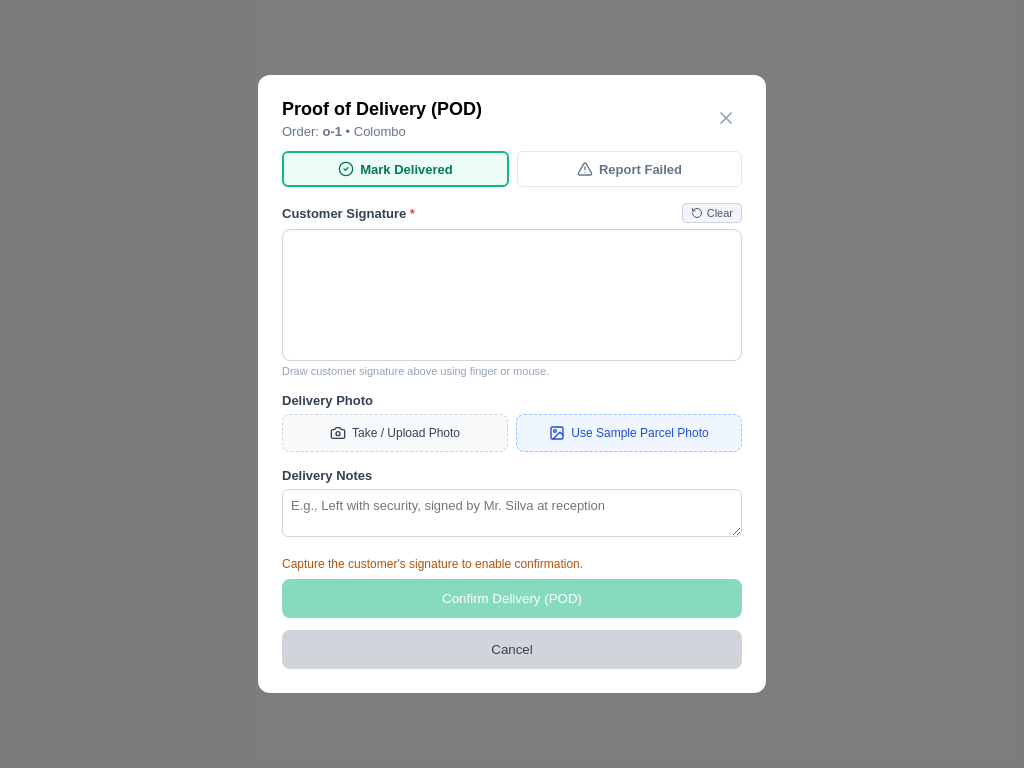
Scenario: ProofOfDeliveryModal › a fresh mount for the next order starts with nothing carried over
The image size is (1024, 768).
Later steps or results of the test are not shown.
Step 1. Press the mouse on the drawing → x=512, y=295, box [283,230,741,360]
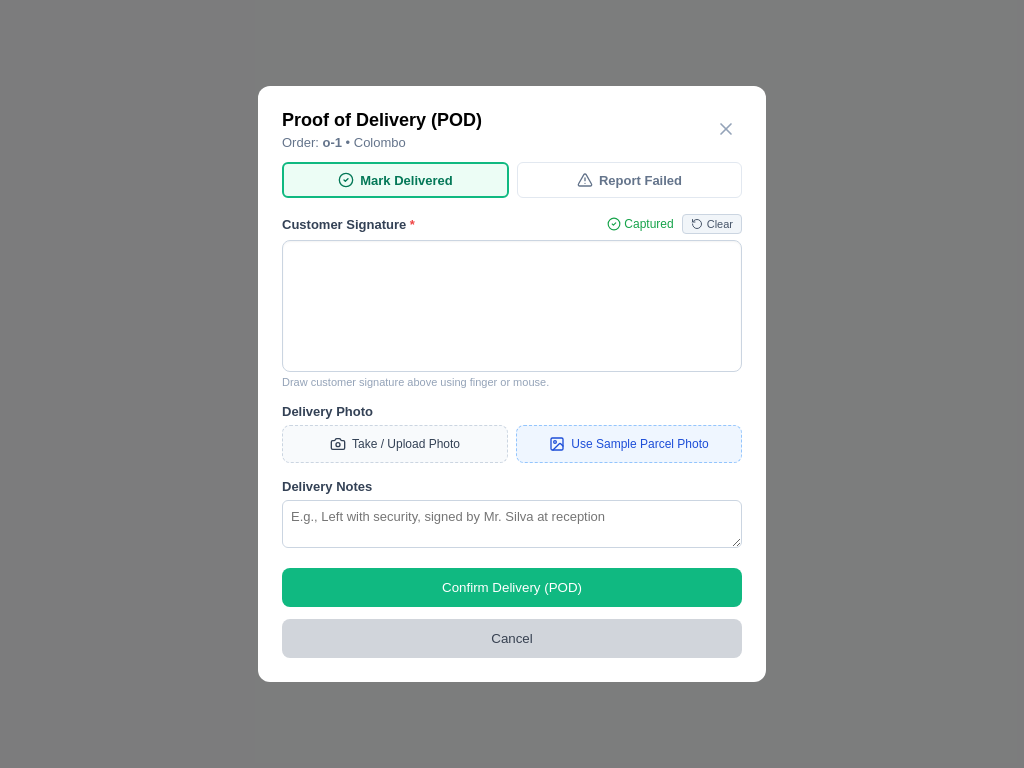
Step 2. Type "note for the first order" into the text box with placeholder "E.g., Left with security, signed by Mr. Silva at reception" → x=512, y=524, box [282,500,742,548]
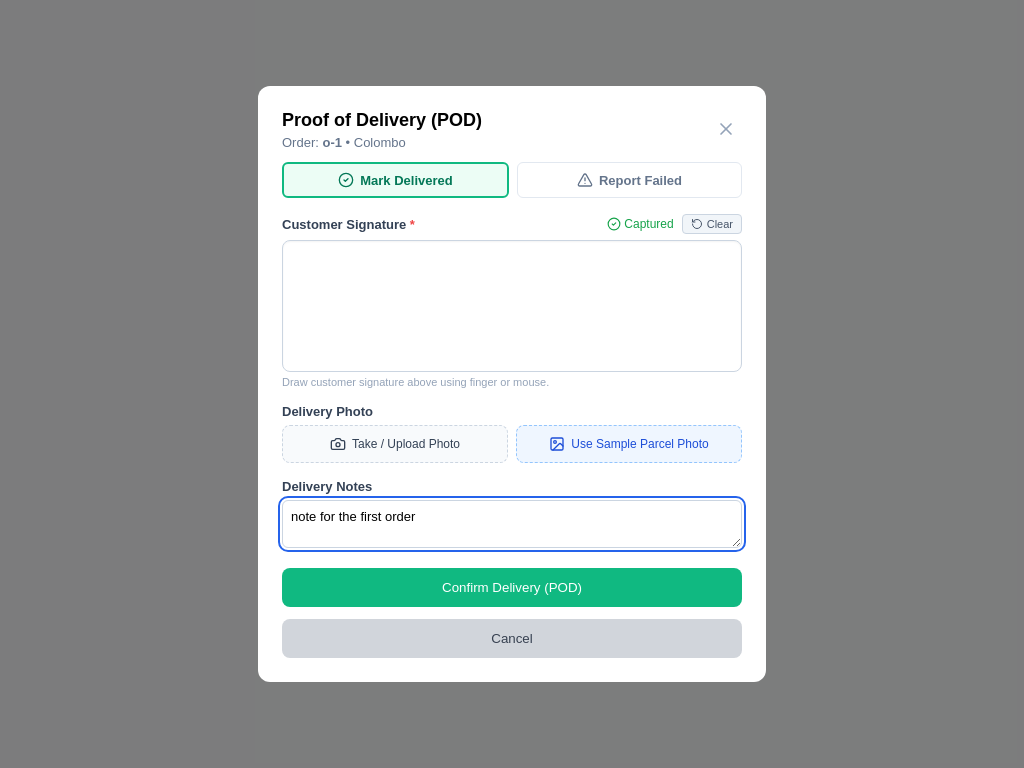
Expected: the button "Confirm Delivery (POD)" is enabled, [282,568,742,607]
